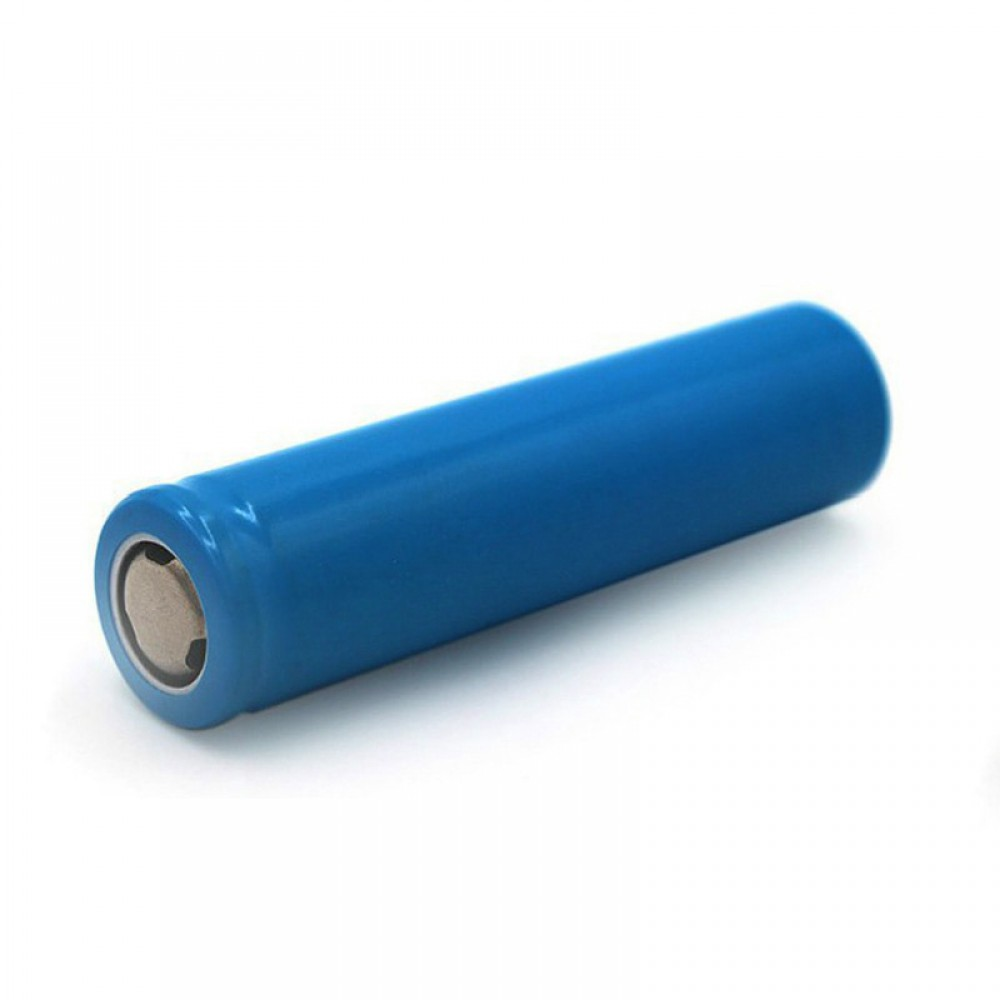Battery: (87, 293, 896, 738)
